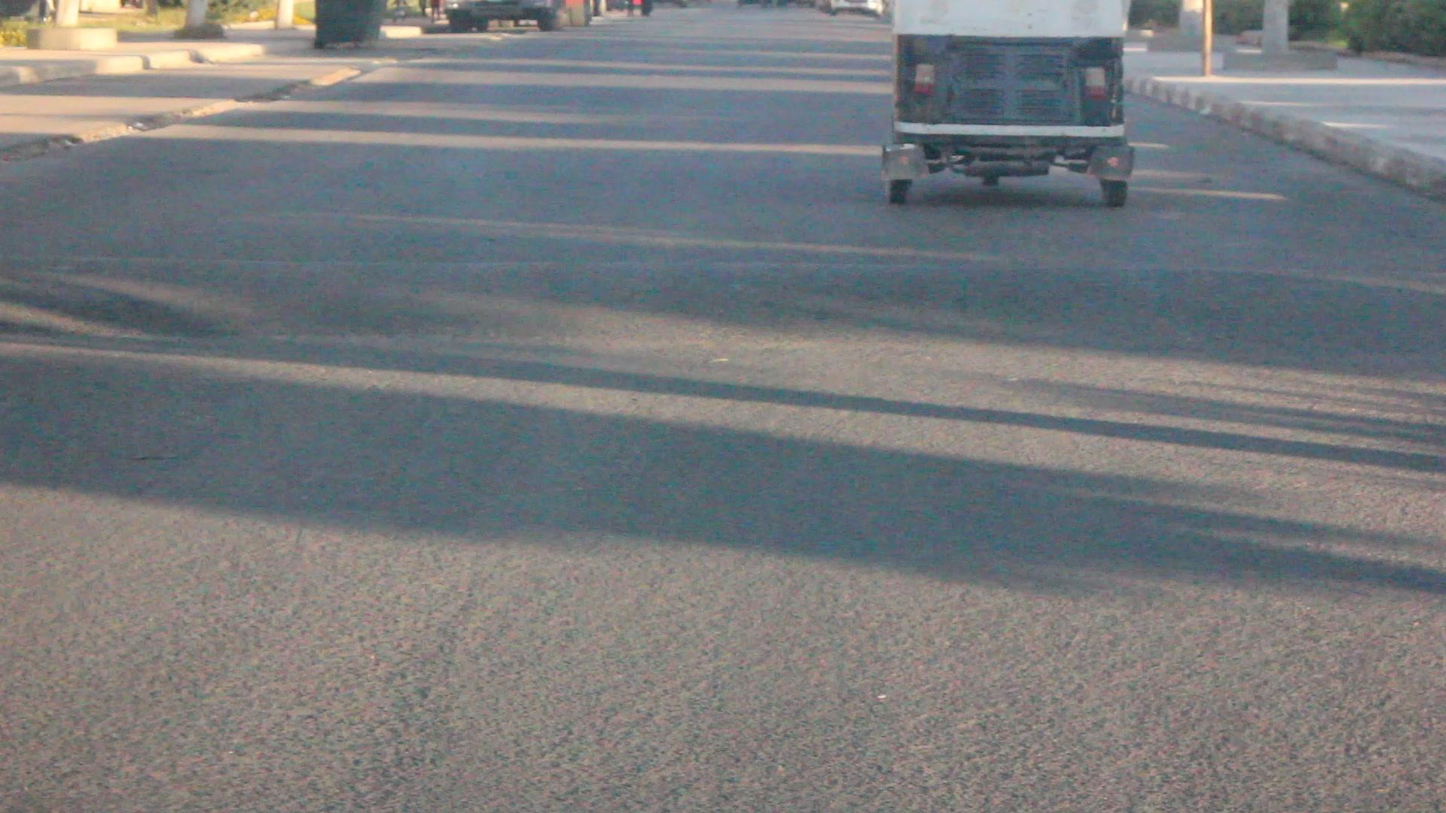Bump: (2, 265, 1446, 363)
